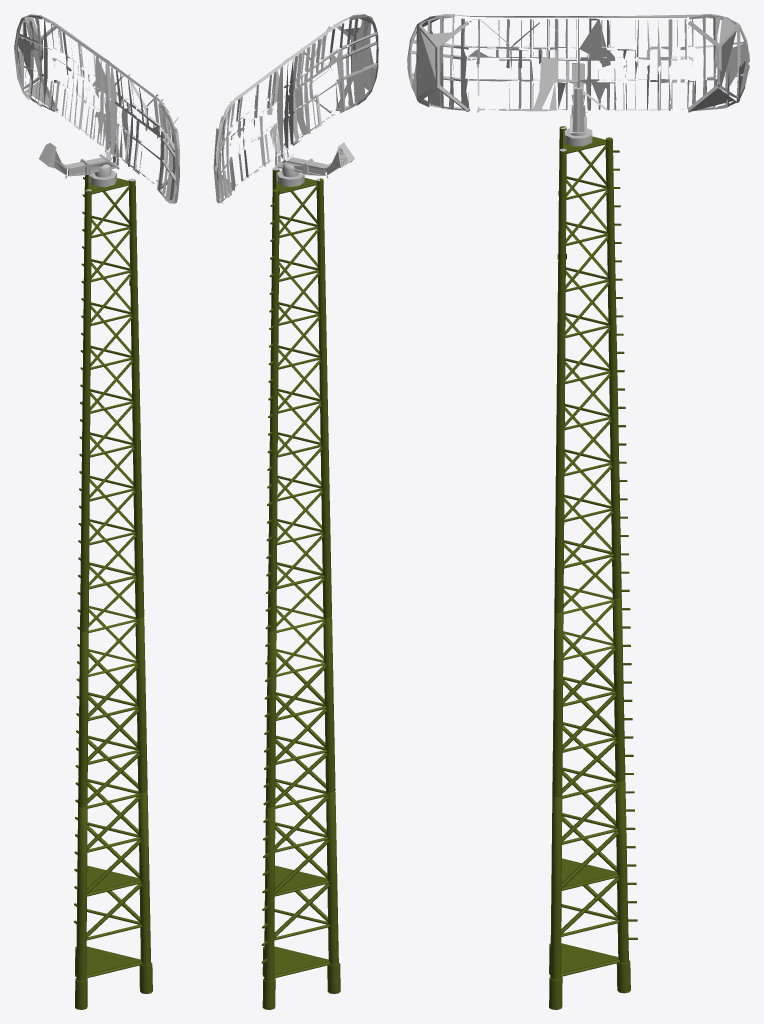
Rendered from AN_TPS3LOD0.glb.
The picture shows the model from 3 angles, left to right: view 1: azimuth 30°, elevation 25°; view 2: azimuth 150°, elevation 25°; view 3: azimuth 270°, elevation 25°; orthographic projection. The views are drawn at different scales.
Visible parts, largest first — view 1: S_Camp_CBRadio_Tower_01; view 2: S_Camp_CBRadio_Tower_01; view 3: S_Camp_CBRadio_Tower_01.
Part boxes in pixels (x1,y1,x2,y2): S_Camp_CBRadio_Tower_01: (14, 14, 179, 1009); S_Camp_CBRadio_Tower_01: (213, 14, 378, 1009); S_Camp_CBRadio_Tower_01: (407, 14, 749, 1009).
Bounding box in the file's own units: 2.57 × 22.93 × 7.3.
